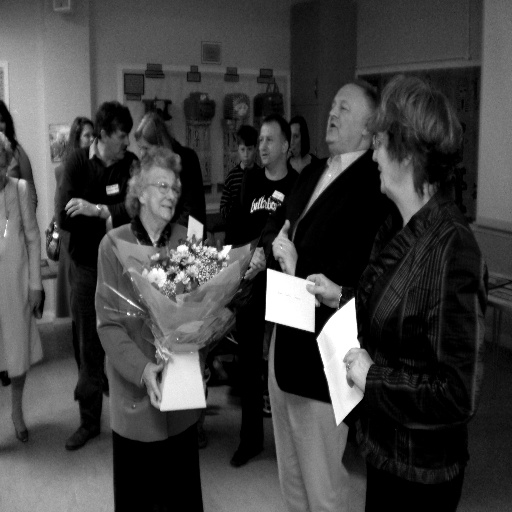hand: (296, 270, 346, 315), (343, 345, 376, 391), (271, 236, 299, 275), (144, 359, 163, 411), (64, 195, 95, 219), (277, 218, 291, 271), (248, 246, 266, 272), (27, 288, 41, 315), (245, 267, 258, 281)
